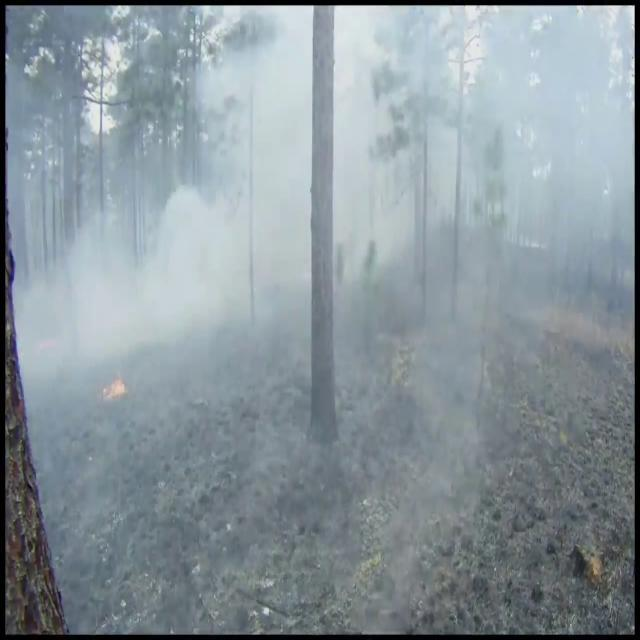Smoke: (11, 8, 566, 628), (9, 10, 310, 468)
